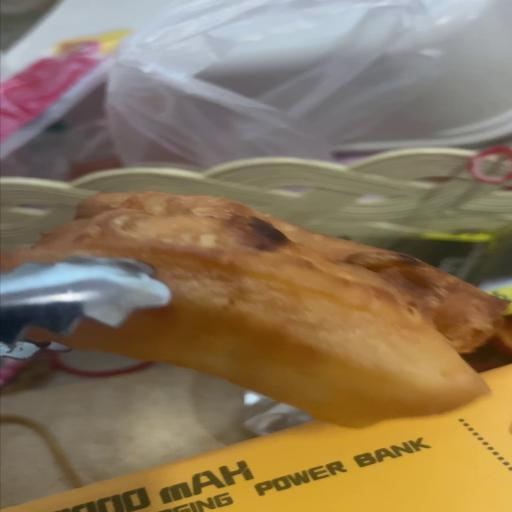street_golden_defect: (0, 191, 509, 429)
